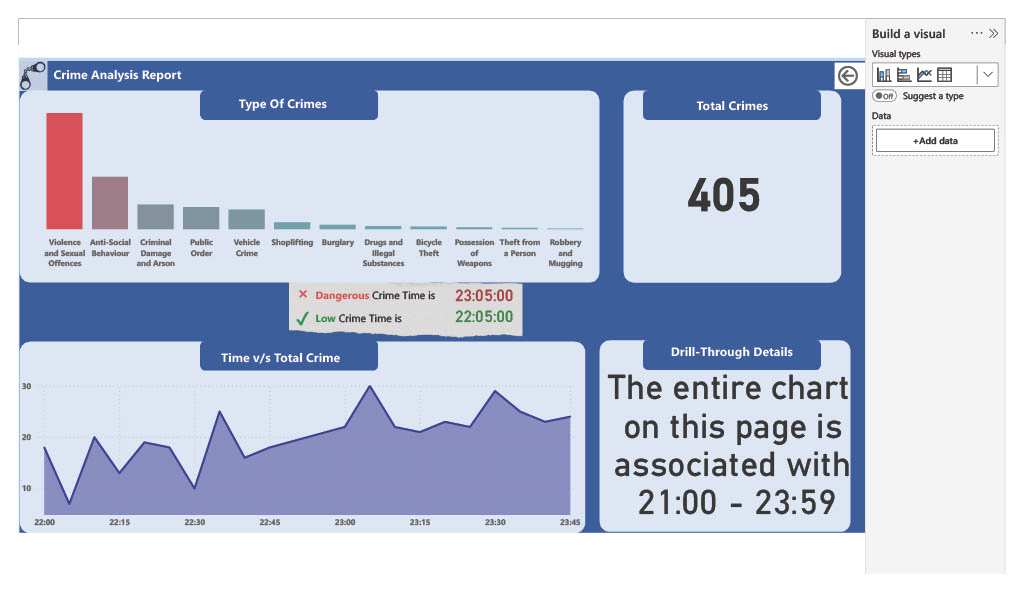

The dashboard page shown, as its layout file describes it:
{"tool":"powerbi","page":{"name":"Details","canvas":[1280,720],"ordinal":1},"visuals":[{"type":"actionButton","box":[1234,7,46,40],"z":0},{"type":"areaChart","fields":{"Category":["Crimes Data.Crime Time"],"Y":["Calculations.Total Crime"]},"box":[0,482,855,238],"z":1000},{"type":"card","fields":{"Values":["Calculations.Drillthrough"]},"box":[866,435,414,285],"z":2000},{"type":"clusteredColumnChart","fields":{"Y":["Calculations.Total Crime"],"Category":["Crime Types.Crime"]},"box":[0,54.4,886.7,271.1],"z":3000},{"type":"textbox","box":[443.6,341.8,200,36.4],"z":4000},{"type":"card","fields":{"Values":["Calculations.Cross"]},"box":[402.7,335.5,48.2,39.1],"z":5000},{"type":"textbox","box":[443.6,378.2,162.7,33.6],"z":6000},{"type":"card","fields":{"Values":["Calculations.Check"]},"box":[402.7,378.2,47.3,32.7],"z":7000},{"type":"card","fields":{"Values":["Min(Crimes Data.Crime Time)"]},"box":[652.7,341.8,102.7,32.7],"z":8000},{"type":"card","fields":{"Values":["Min(Crimes Data.Crime Time)"]},"box":[652.7,374.5,102.7,30],"z":9000},{"type":"card","fields":{"Values":["Calculations.Total Crime"]},"box":[916.7,90,301.1,214.4],"z":10000},{"type":"textbox","box":[48,7,218,44],"z":10001},{"type":"textbox","box":[328,51,176,39],"z":10002},{"type":"textbox","box":[301,435,203,44],"z":10003},{"type":"textbox","box":[1020,54,134,42],"z":10004},{"type":"textbox","box":[981,425,212,43],"z":10005}]}

Visuals, with their boxes on the page's 1280x720 design canvas (x1, y1, x2, y2). These are canvas units, not pixel positions in the 1024x592 screenshot, which may show the page scaled, cropped or inside an application window:
actionButton: bbox(1234, 7, 1280, 47)
areaChart - Crimes Data.Crime Time x Calculations.Total Crime: bbox(0, 482, 855, 720)
card - Calculations.Drillthrough: bbox(866, 435, 1280, 720)
clusteredColumnChart - Calculations.Total Crime x Crime Types.Crime: bbox(0, 54, 887, 326)
textbox: bbox(444, 342, 644, 378)
card - Calculations.Cross: bbox(403, 336, 451, 375)
textbox: bbox(444, 378, 606, 412)
card - Calculations.Check: bbox(403, 378, 450, 411)
card - Min(Crimes Data.Crime Time): bbox(653, 342, 755, 374)
card - Min(Crimes Data.Crime Time): bbox(653, 374, 755, 404)
card - Calculations.Total Crime: bbox(917, 90, 1218, 304)
textbox: bbox(48, 7, 266, 51)
textbox: bbox(328, 51, 504, 90)
textbox: bbox(301, 435, 504, 479)
textbox: bbox(1020, 54, 1154, 96)
textbox: bbox(981, 425, 1193, 468)
